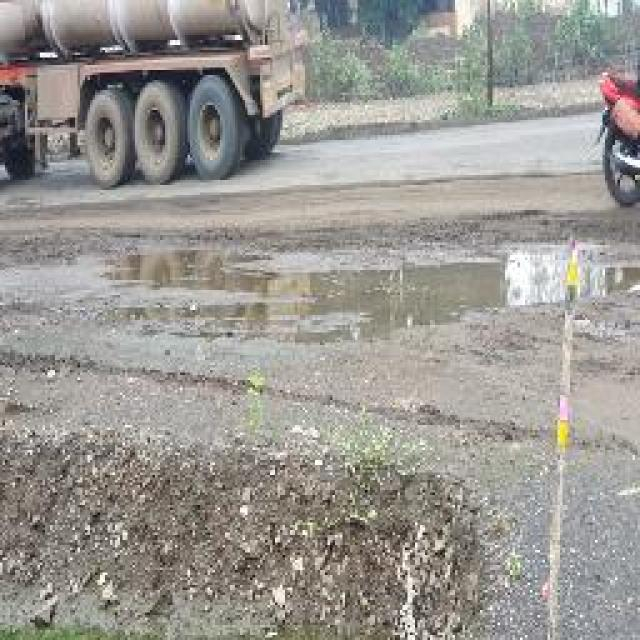waterlogging: (86, 228, 640, 332)
